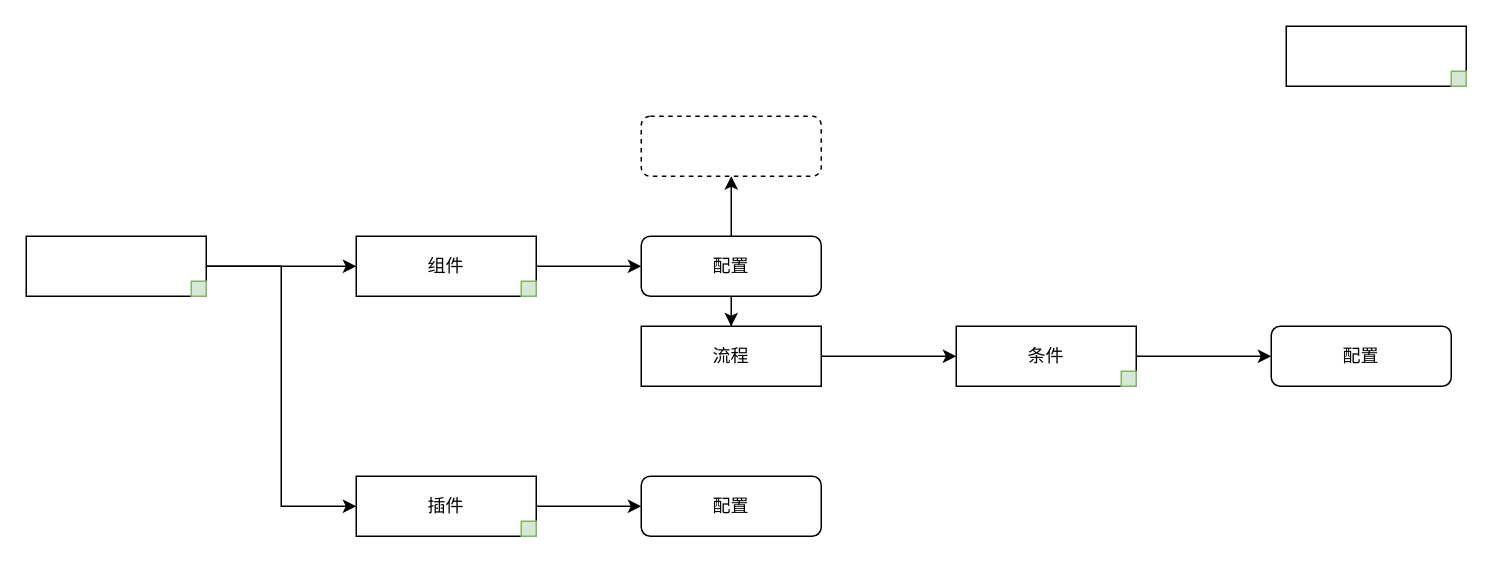
Some shapes in this 1493 by 563 pixel diagram are drawn without their labels. The centre of each missing label's shape, as x and y in pixels:
"Checker" goes at point 1375,55.
"本身配置+外部配置" goes at point 730,145.
"页面" goes at point 115,265.
